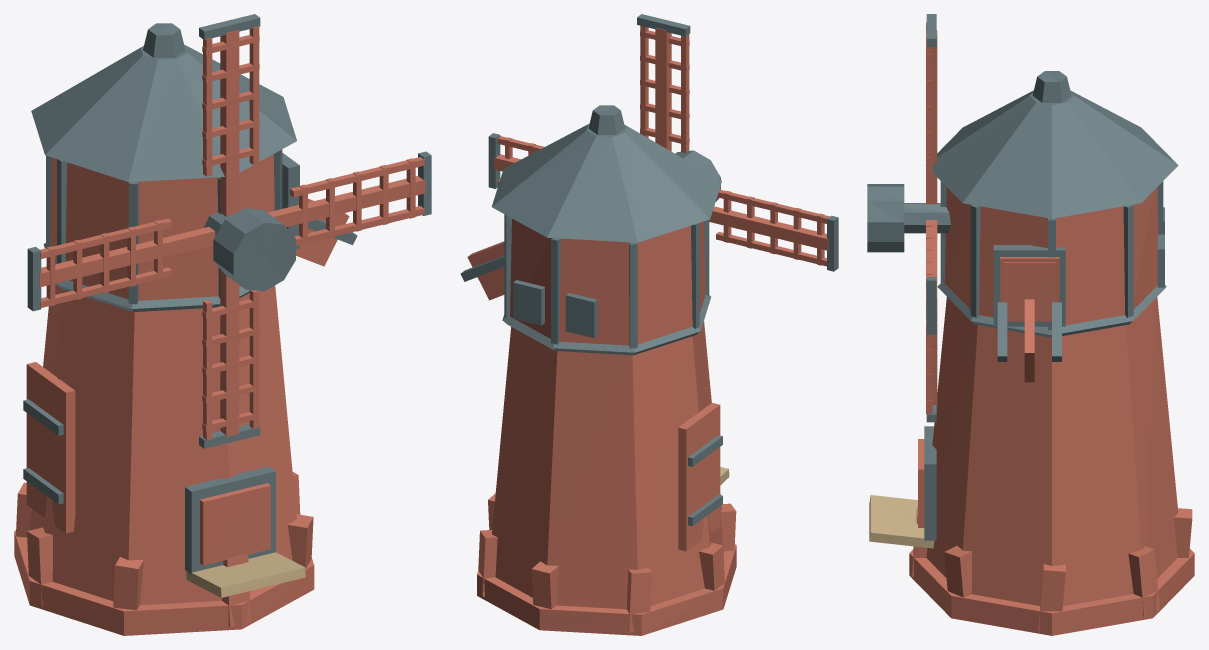
Rendered from windmill.source.glb.
3 views of the same model, side by side, from view 1: azimuth 30°, elevation 25°; view 2: azimuth 150°, elevation 25°; view 3: azimuth 270°, elevation 25° (orthographic). The views are drawn at different scales.
Visible parts, largest first — view 1: windmill-tapered-lower-stone-body-mesh, windmill-galvanized-cap-roof-mesh, windmill-narrow-timber-upper-body-mesh, windmill-faceted-stone-footing-mesh, windmill-side-service-door-mesh, windmill-compact-sail-hub-mesh, windmill-flour-output-hatch-mesh, windmill-flour-output-frame-mesh, windmill-flour-output-tray-mesh, windmill-sail-1-main-spar-mesh, windmill-sail-2-main-spar-mesh, windmill-sail-3-main-spar-mesh (+26 smaller); view 2: windmill-tapered-lower-stone-body-mesh, windmill-galvanized-cap-roof-mesh, windmill-narrow-timber-upper-body-mesh, windmill-faceted-stone-footing-mesh, windmill-side-service-door-mesh, windmill-housing-waist-band-mesh, windmill-sail-2-main-spar-mesh, windmill-sail-1-main-spar-mesh, windmill-ventilation-slit-1-mesh, windmill-ventilation-slit-2-mesh, windmill-footing-buttress-6-mesh, windmill-grain-loading-chute-floor-mesh (+16 smaller); view 3: windmill-tapered-lower-stone-body-mesh, windmill-galvanized-cap-roof-mesh, windmill-narrow-timber-upper-body-mesh, windmill-faceted-stone-footing-mesh, windmill-grain-door-timber-inset-mesh, windmill-compact-sail-hub-mesh, windmill-flour-output-tray-mesh, windmill-housing-waist-band-mesh, windmill-grain-door-iron-frame-mesh, windmill-flour-output-frame-mesh, windmill-footing-buttress-4-mesh, windmill-horizontal-sail-axle-mesh (+15 smaller).
Part boxes in pixels (x1=…): windmill-tapered-lower-stone-body-mesh: x1=29, y1=283, x2=296, y2=605; windmill-galvanized-cap-roof-mesh: x1=31, y1=45, x2=296, y2=182; windmill-narrow-timber-upper-body-mesh: x1=50, y1=154, x2=274, y2=300; windmill-faceted-stone-footing-mesh: x1=14, y1=530, x2=314, y2=635; windmill-side-service-door-mesh: x1=26, y1=362, x2=75, y2=533; windmill-compact-sail-hub-mesh: x1=213, y1=208, x2=295, y2=291; windmill-flour-output-hatch-mesh: x1=200, y1=483, x2=270, y2=565; windmill-flour-output-frame-mesh: x1=185, y1=466, x2=275, y2=574; windmill-flour-output-tray-mesh: x1=186, y1=552, x2=305, y2=597; windmill-sail-1-main-spar-mesh: x1=220, y1=30, x2=239, y2=216; windmill-sail-2-main-spar-mesh: x1=39, y1=227, x2=215, y2=287; windmill-sail-3-main-spar-mesh: x1=220, y1=269, x2=239, y2=436; windmill-tapered-lower-stone-body-mesh: x1=492, y1=321, x2=723, y2=609; windmill-galvanized-cap-roof-mesh: x1=492, y1=123, x2=721, y2=242; windmill-narrow-timber-upper-body-mesh: x1=510, y1=218, x2=705, y2=345; windmill-faceted-stone-footing-mesh: x1=477, y1=544, x2=736, y2=635; windmill-side-service-door-mesh: x1=678, y1=403, x2=720, y2=551; windmill-housing-waist-band-mesh: x1=502, y1=294, x2=711, y2=355; windmill-sail-2-main-spar-mesh: x1=709, y1=206, x2=828, y2=250; windmill-sail-1-main-spar-mesh: x1=655, y1=28, x2=671, y2=151; windmill-ventilation-slit-1-mesh: x1=565, y1=293, x2=597, y2=338; windmill-ventilation-slit-2-mesh: x1=513, y1=280, x2=544, y2=325; windmill-footing-buttress-6-mesh: x1=626, y1=567, x2=651, y2=632; windmill-grain-loading-chute-floor-mesh: x1=467, y1=241, x2=504, y2=300; windmill-tapered-lower-stone-body-mesh: x1=926, y1=297, x2=1178, y2=606; windmill-galvanized-cap-roof-mesh: x1=925, y1=90, x2=1178, y2=218; windmill-narrow-timber-upper-body-mesh: x1=944, y1=187, x2=1158, y2=326; windmill-faceted-stone-footing-mesh: x1=909, y1=548, x2=1194, y2=635; windmill-grain-door-timber-inset-mesh: x1=1003, y1=262, x2=1055, y2=318; windmill-compact-sail-hub-mesh: x1=867, y1=184, x2=904, y2=252; windmill-flour-output-tray-mesh: x1=869, y1=495, x2=934, y2=548; windmill-housing-waist-band-mesh: x1=937, y1=283, x2=1166, y2=337; windmill-grain-door-iron-frame-mesh: x1=993, y1=245, x2=1065, y2=326; windmill-flour-output-frame-mesh: x1=924, y1=426, x2=936, y2=540; windmill-footing-buttress-4-mesh: x1=1128, y1=546, x2=1159, y2=617; windmill-horizontal-sail-axle-mesh: x1=904, y1=203, x2=950, y2=233.
Bounding box in the file's own units: 3.41 × 4.89 × 2.64.
